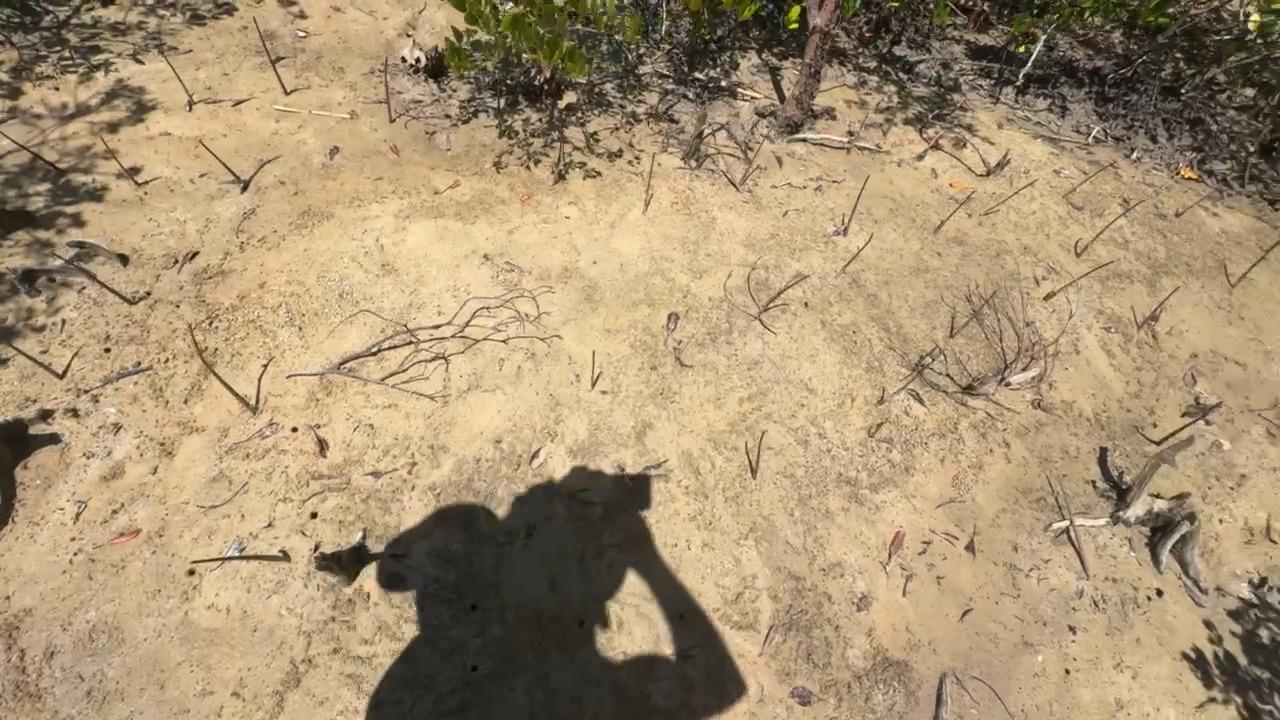Tree: (188, 322, 256, 412), (50, 249, 138, 304), (1054, 471, 1095, 579), (1074, 200, 1146, 258), (1152, 400, 1226, 447), (1043, 259, 1117, 301), (252, 15, 290, 95), (0, 129, 64, 175), (950, 289, 1005, 339), (757, 272, 816, 316), (1, 339, 62, 380), (1231, 238, 1280, 289), (979, 178, 1042, 216), (739, 124, 775, 187), (1135, 284, 1182, 332), (100, 135, 142, 187), (1061, 160, 1117, 198), (189, 549, 292, 569), (933, 189, 978, 234), (199, 138, 245, 182), (161, 49, 196, 106), (840, 174, 869, 239), (876, 371, 921, 405), (840, 231, 874, 274), (1175, 187, 1217, 218), (845, 111, 870, 156), (642, 150, 655, 217), (753, 428, 764, 479), (384, 56, 392, 123), (591, 348, 596, 392)
